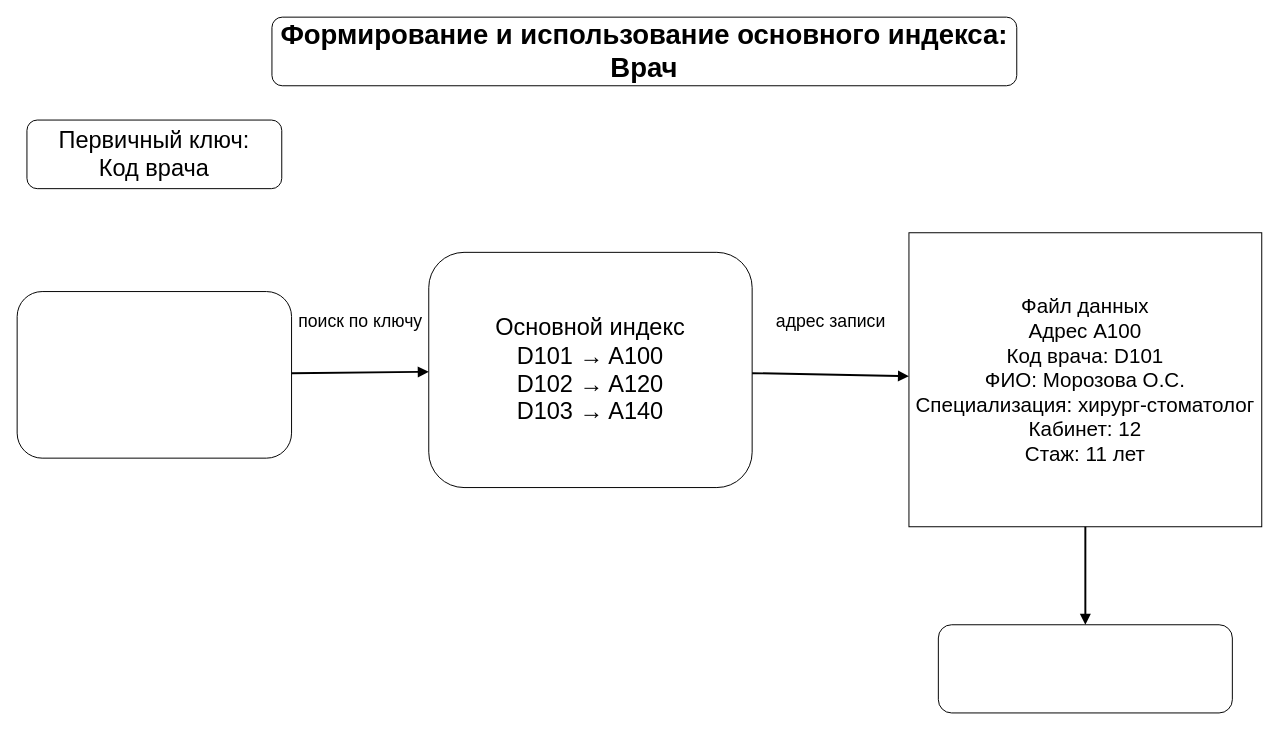
Some shapes in this 1279 by 730 pixel diagram are drawn without their labels. Each missing label, with the box of its shape:
Запрос: Показать все данные по сущности врач D101: (16, 291, 292, 458)
Результат: полная запись сущности: (937, 624, 1232, 713)
